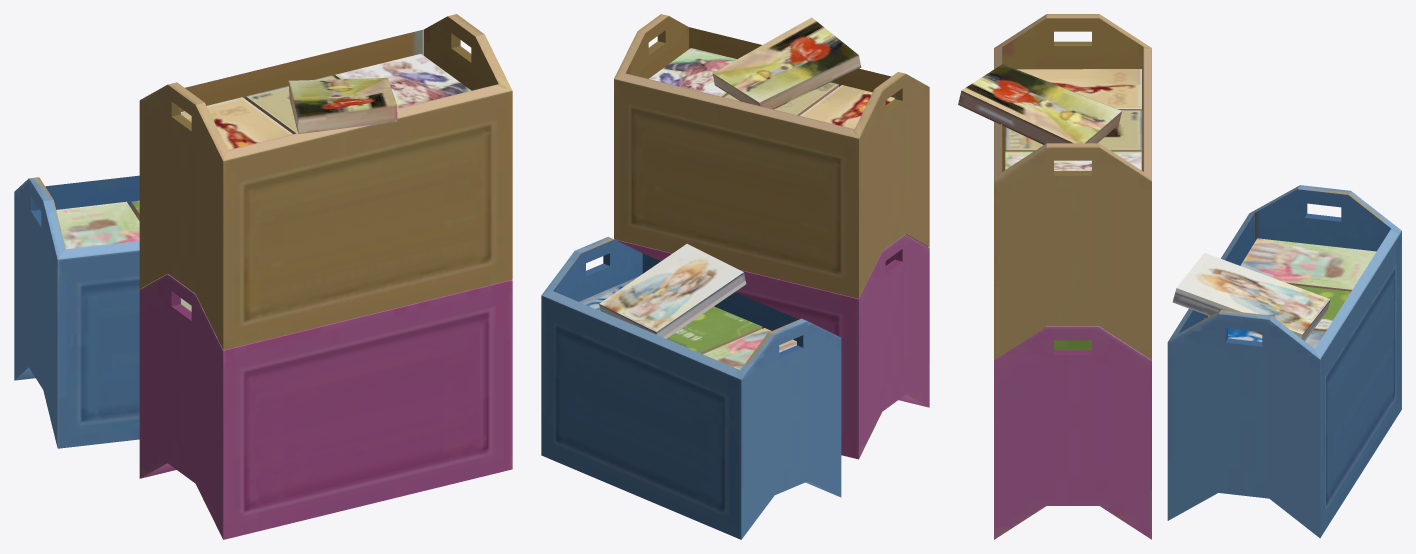
File: furni_0200148_03.FBX
3 renders of one model, left to right at view 1: azimuth 30°, elevation 25°; view 2: azimuth 150°, elevation 25°; view 3: azimuth 270°, elevation 25°, orthographic. The views are drawn at different scales.
Visible parts, largest first — view 1: furni_0200148_03; view 2: furni_0200148_03; view 3: furni_0200148_03.
Part boxes in pixels (x1,y1,x2,y2): furni_0200148_03: [14, 14, 512, 539]; furni_0200148_03: [541, 14, 929, 539]; furni_0200148_03: [958, 14, 1401, 539].
Size of the model in its own units: 54.73 by 67.78 by 69.49.
1 material, 1 textured.
